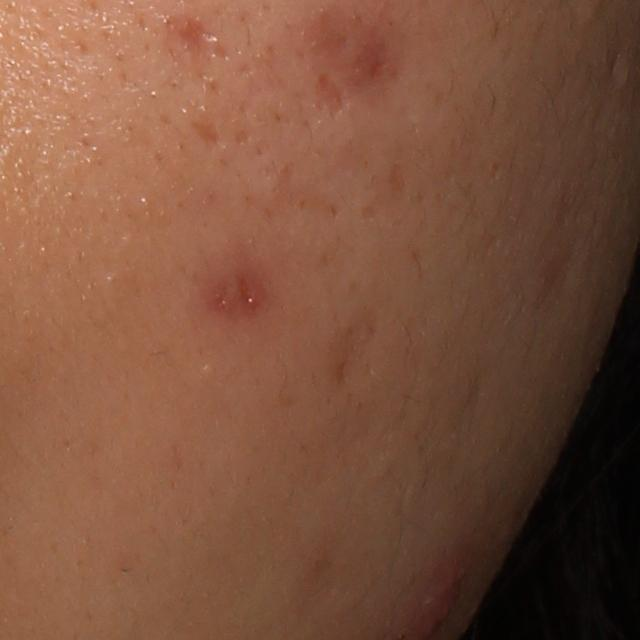atrophic_scar: (165, 15, 220, 77), (331, 319, 369, 385), (316, 71, 348, 119), (187, 120, 220, 148)
